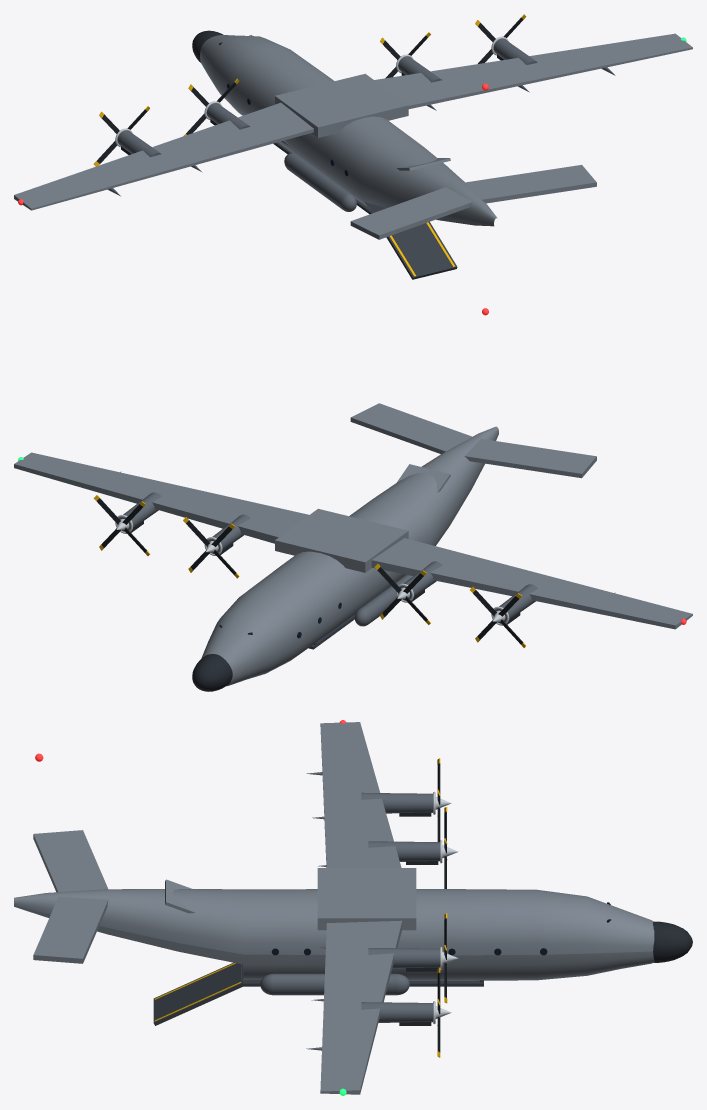
The model's file is avion.glb.
The picture shows the model from 3 angles, top to bottom: view 1: azimuth 30°, elevation 25°; view 2: azimuth 150°, elevation 25°; view 3: azimuth 270°, elevation 25°; orthographic projection. The views are drawn at different scales.
Parts seen in each view (by area): view 1: Fuselaje, Ala_Izquierda, Ala_Derecha, Ala_Principal, Estabilizador_Horiz_Izq, Estabilizador_Horiz_Der, Rampa_Trasera, Barquilla_Tren_Izq, Motor_1, Motor_4, Motor_2, Motor_3 (+1 smaller); view 2: Fuselaje, Ala_Izquierda, Ala_Derecha, Ala_Principal, Estabilizador_Horiz_Izq, Estabilizador_Horiz_Der, Morro_Radar, Barquilla_Tren_Izq, Motor_1, Motor_4, Motor_2, Motor_3 (+4 smaller); view 3: Fuselaje, Ala_Derecha, Ala_Izquierda, Ala_Principal, Estabilizador_Horiz_Der, Estabilizador_Horiz_Izq, Rampa_Trasera, Barquilla_Tren_Der, Motor_4, Motor_1, Motor_3, Motor_2 (+2 smaller).
Part boxes in pixels (box(x1,y1,x2,y2)): Fuselaje: box(200, 35, 497, 226); Ala_Izquierda: box(14, 102, 313, 210); Ala_Derecha: box(374, 33, 692, 108); Ala_Principal: box(107, 67, 615, 196); Estabilizador_Horiz_Izq: box(350, 187, 472, 239); Estabilizador_Horiz_Der: box(465, 165, 596, 203); Rampa_Trasera: box(386, 222, 457, 279); Barquilla_Tren_Izq: box(284, 153, 356, 211); Motor_1: box(115, 128, 161, 157); Motor_4: box(491, 36, 537, 64); Motor_2: box(204, 101, 250, 129); Motor_3: box(396, 54, 442, 82); Fuselaje: box(201, 426, 498, 686); Ala_Izquierda: box(371, 538, 692, 629); Ala_Derecha: box(14, 452, 308, 543); Ala_Principal: box(120, 471, 615, 593); Estabilizador_Horiz_Izq: box(464, 439, 596, 478); Estabilizador_Horiz_Der: box(350, 403, 472, 453); Morro_Radar: box(192, 654, 232, 691); Barquilla_Tren_Izq: box(354, 574, 412, 626); Motor_1: box(491, 584, 537, 625); Motor_4: box(115, 492, 161, 533); Motor_2: box(396, 561, 442, 602); Motor_3: box(204, 514, 250, 555); Fuselaje: box(14, 889, 654, 980); Ala_Derecha: box(320, 920, 402, 1094); Ala_Izquierda: box(320, 722, 401, 867); Ala_Principal: box(306, 772, 416, 1050); Estabilizador_Horiz_Der: box(33, 896, 108, 963); Estabilizador_Horiz_Izq: box(33, 830, 107, 892); Rampa_Trasera: box(153, 962, 242, 1025); Barquilla_Tren_Der: box(260, 973, 409, 995); Motor_4: box(361, 1001, 451, 1025); Motor_1: box(361, 791, 451, 816); Motor_3: box(368, 947, 458, 971); Motor_2: box(368, 840, 458, 864).
Size of the model in its own units: 38.36 by 12.5 by 29.61.
